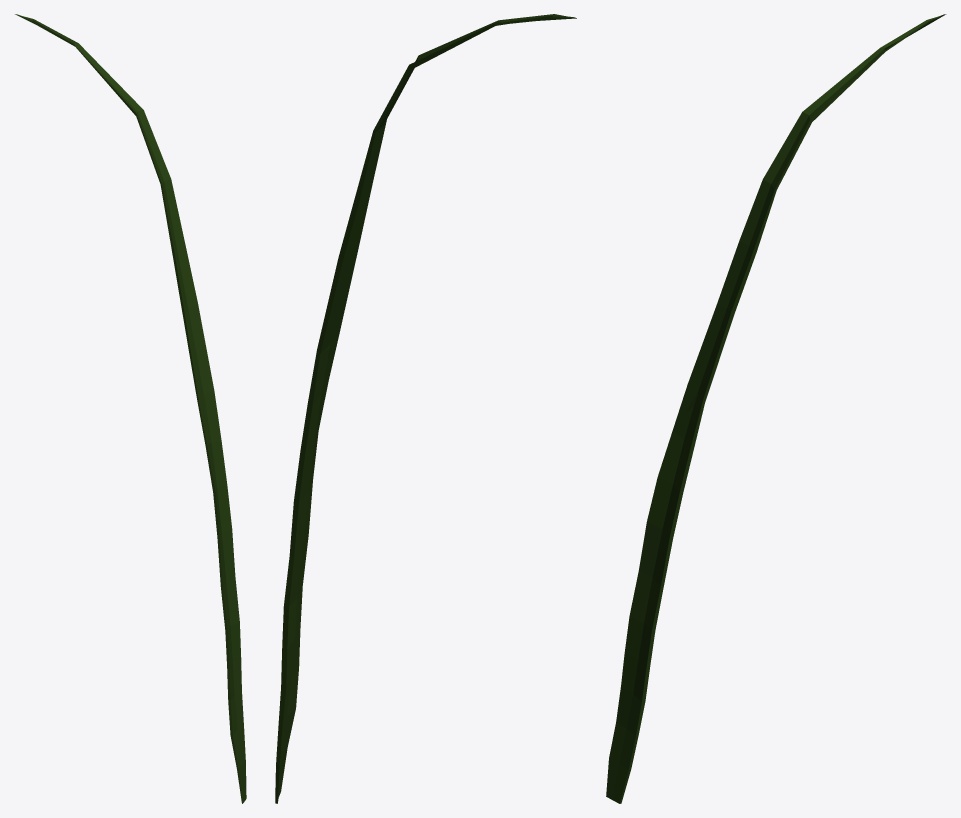
Rendered from Right_leaf.fbx.
The picture shows the model from 3 angles, left to right: view 1: azimuth 30°, elevation 25°; view 2: azimuth 210°, elevation 25°; view 3: azimuth 270°, elevation 25°; orthographic projection. The views are drawn at different scales.
Visible parts, largest first — view 1: Right Leaf Backup; view 2: Right Leaf Backup; view 3: Right Leaf Backup.
Boxes of the visible parts, x1,y1,x2,y2 form: Right Leaf Backup: (15, 14, 246, 803); Right Leaf Backup: (275, 14, 576, 803); Right Leaf Backup: (606, 14, 946, 803).
Size of the model in its own units: 198 by 1473 by 608.
